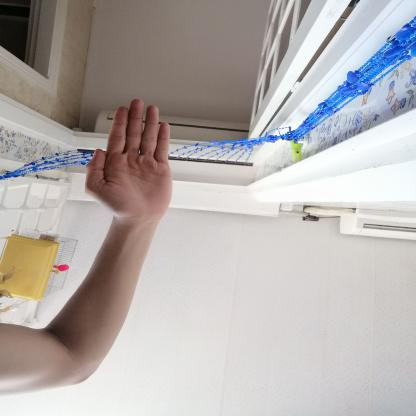SEEN: (75, 91, 182, 228)
